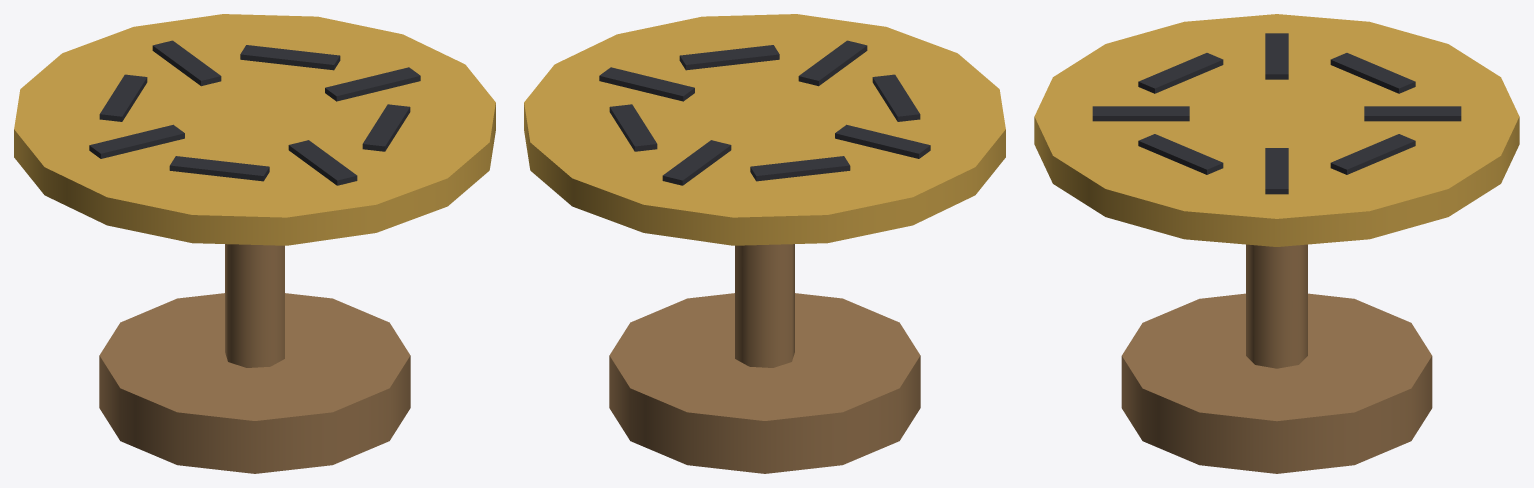
The picture shows the model from 3 angles, left to right: view 1: azimuth 30°, elevation 25°; view 2: azimuth 150°, elevation 25°; view 3: azimuth 270°, elevation 25°; orthographic projection.
Visible parts, largest first — view 1: spirit-plate-a@1.0.0; view 2: spirit-plate-a@1.0.0; view 3: spirit-plate-a@1.0.0.
Part boxes in pixels (box(x1,y1,x2,y2)): spirit-plate-a@1.0.0: box(14, 14, 495, 473); spirit-plate-a@1.0.0: box(524, 14, 1005, 473); spirit-plate-a@1.0.0: box(1034, 14, 1519, 473).
Size of the model in its own units: 1.25 by 0.845 by 1.25.
